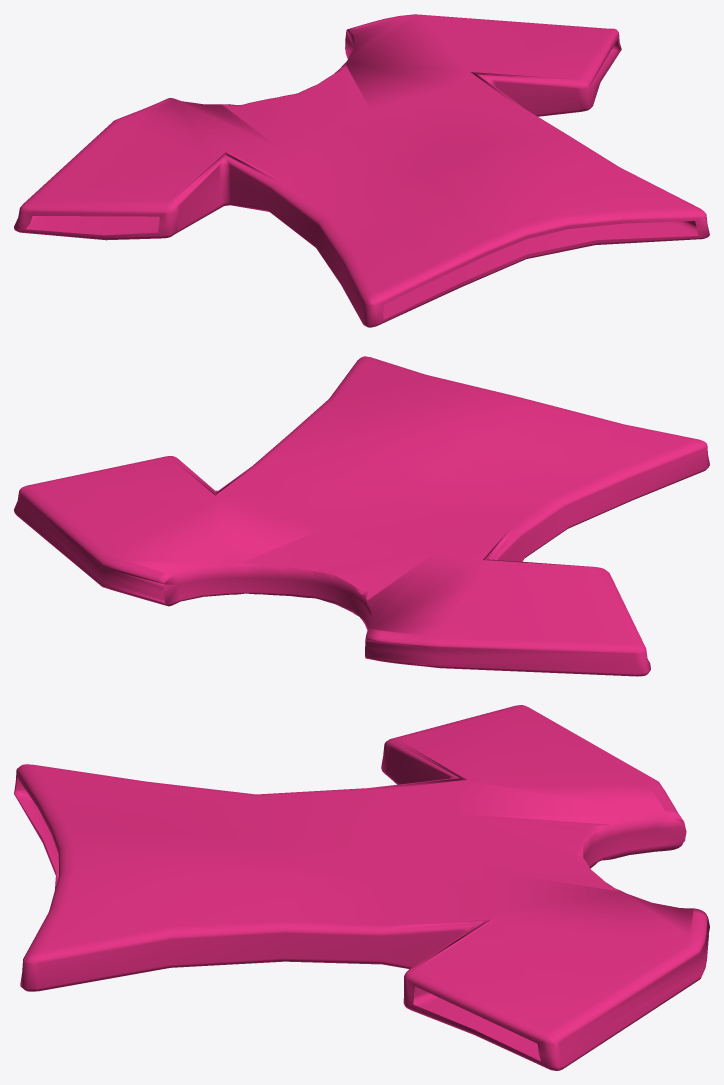
File: Shirt1.fbx
3 renders of one model, top to bottom at view 1: azimuth 30°, elevation 25°; view 2: azimuth 150°, elevation 25°; view 3: azimuth 270°, elevation 25°, orthographic. The views are drawn at different scales.
Visible parts, largest first — view 1: Cube.023; view 2: Cube.023; view 3: Cube.023.
Boxes of the visible parts, box(x1,y1,x2,y2) form: Cube.023: box(14, 14, 709, 327); Cube.023: box(14, 356, 709, 676); Cube.023: box(14, 705, 709, 1070).
Size of the model in its own units: 0.8052 by 0.0857 by 0.6439.
